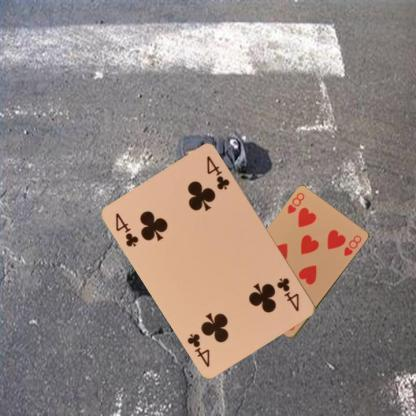4c: (112, 210, 140, 248), (274, 275, 301, 313)
8h: (284, 190, 306, 216)
